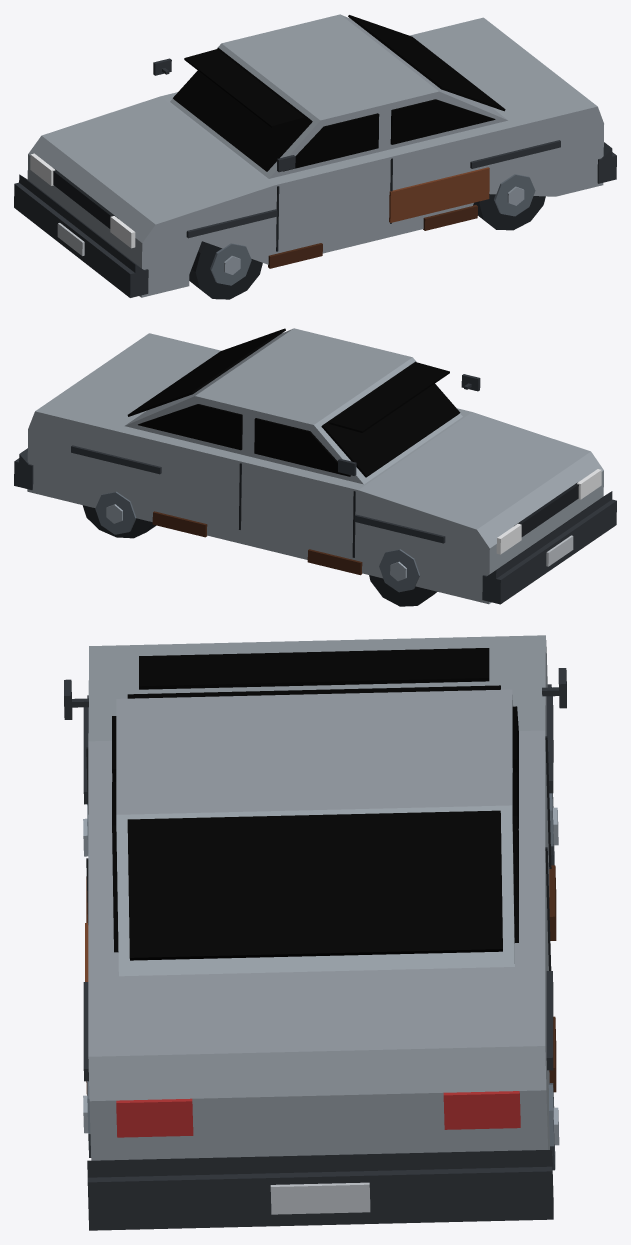
File: prop_car_sedan.fbx
3 renders of one model, top to bottom at view 1: azimuth 30°, elevation 25°; view 2: azimuth 150°, elevation 25°; view 3: azimuth 270°, elevation 25°, orthographic. The views are drawn at different scales.
Parts seen in each view (by area): view 1: prop_car_sedan; view 2: prop_car_sedan; view 3: prop_car_sedan.
Part boxes in pixels (bbox=[...]): prop_car_sedan: bbox=[14, 14, 616, 299]; prop_car_sedan: bbox=[14, 328, 616, 606]; prop_car_sedan: bbox=[64, 635, 566, 1230].
Size of the model in its own units: 1488 by 457 by 661.
